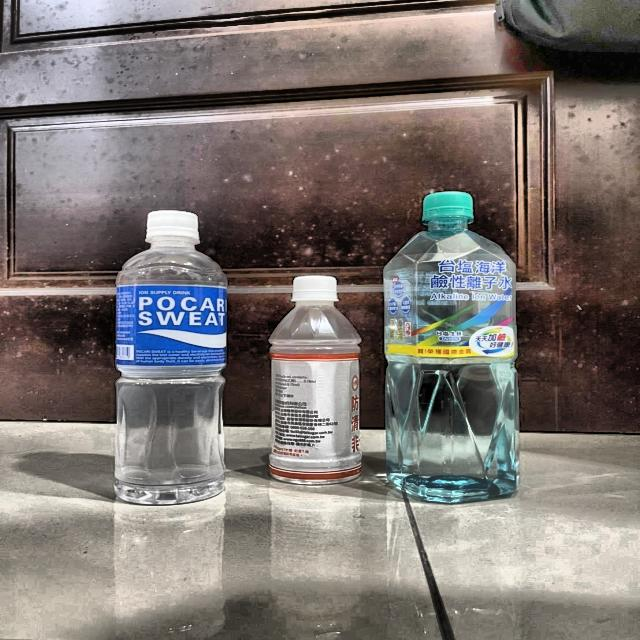Bottles: (374, 192, 533, 503), (89, 194, 237, 509), (258, 265, 373, 494)
